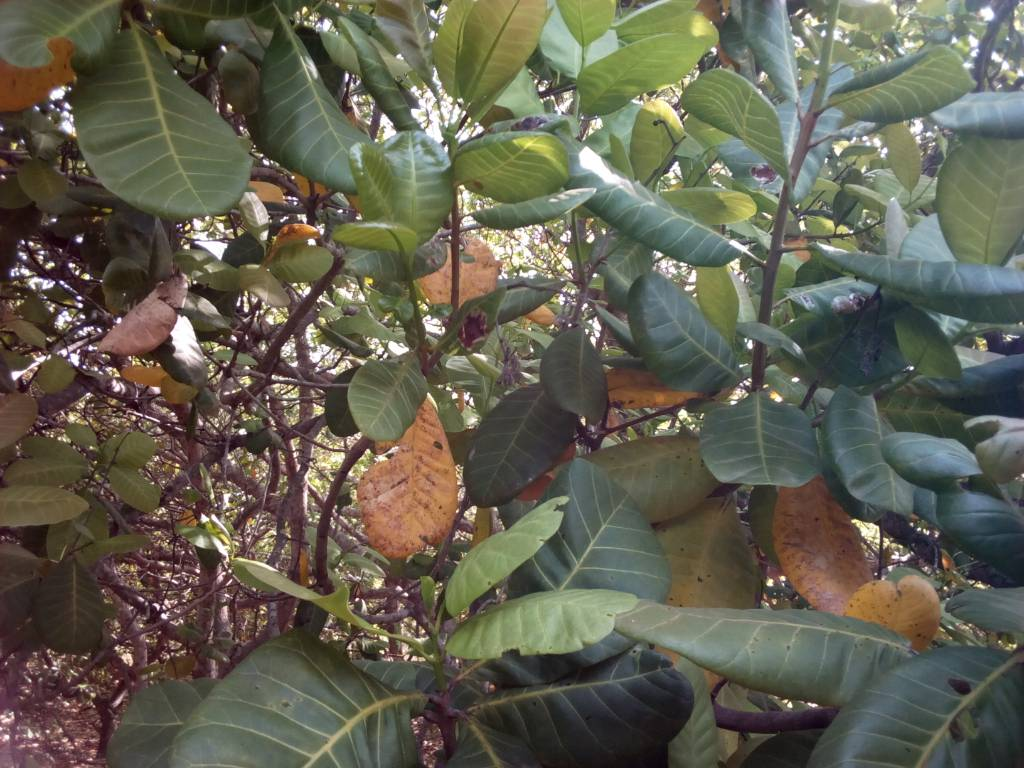Bactériose: (356, 398, 457, 563), (781, 475, 865, 612), (792, 289, 909, 379)
